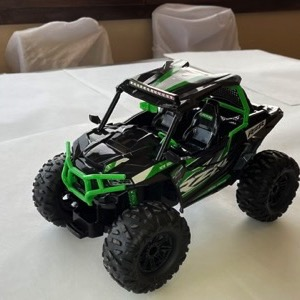polaris: (32, 59, 298, 294)
